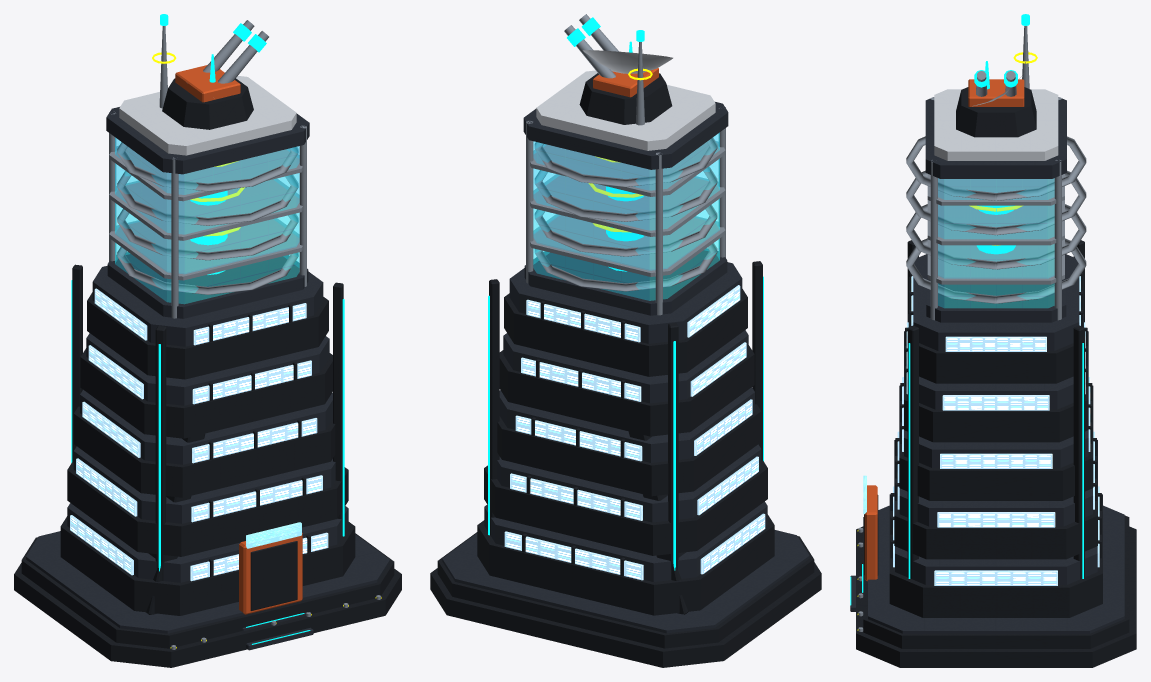
Rendered from bldg_20_r1_01.glb.
3 views of the same model, side by side, from view 1: azimuth 30°, elevation 25°; view 2: azimuth 150°, elevation 25°; view 3: azimuth 270°, elevation 25° (orthographic).
Parts seen in each view (by area): view 1: Bldg20_C01_gunmetal, Bldg20_C01_carbon_slate, Bldg20_C01_steel_machined, Bldg20_C01_glass_cyan, Bldg20_C01_window_lit, Bldg20_C01_aero_white, Bldg20_C01_led_cyan, Bldg20_C01_accent_orange, Bldg20_C01_marquee; view 2: Bldg20_C01_gunmetal, Bldg20_C01_carbon_slate, Bldg20_C01_steel_machined, Bldg20_C01_glass_cyan, Bldg20_C01_window_lit, Bldg20_C01_aero_white, Bldg20_C01_led_cyan, Bldg20_C01_accent_orange; view 3: Bldg20_C01_gunmetal, Bldg20_C01_carbon_slate, Bldg20_C01_steel_machined, Bldg20_C01_glass_cyan, Bldg20_C01_window_lit, Bldg20_C01_aero_white, Bldg20_C01_accent_orange, Bldg20_C01_led_cyan.
Part boxes in pixels (left/top/right/bottom): Bldg20_C01_gunmetal: left=14, top=78, right=401, bottom=667; Bldg20_C01_carbon_slate: left=26, top=107, right=389, bottom=650; Bldg20_C01_steel_machined: left=109, top=20, right=380, bottom=649; Bldg20_C01_glass_cyan: left=115, top=137, right=299, bottom=303; Bldg20_C01_window_lit: left=70, top=288, right=328, bottom=581; Bldg20_C01_aero_white: left=119, top=76, right=296, bottom=155; Bldg20_C01_led_cyan: left=71, top=14, right=344, bottom=644; Bldg20_C01_accent_orange: left=175, top=65, right=302, bottom=614; Bldg20_C01_marquee: left=246, top=522, right=301, bottom=548; Bldg20_C01_gunmetal: left=430, top=73, right=821, bottom=667; Bldg20_C01_carbon_slate: left=442, top=102, right=809, bottom=633; Bldg20_C01_steel_machined: left=526, top=14, right=725, bottom=315; Bldg20_C01_glass_cyan: left=533, top=132, right=719, bottom=300; Bldg20_C01_window_lit: left=504, top=285, right=765, bottom=580; Bldg20_C01_aero_white: left=536, top=50, right=715, bottom=150; Bldg20_C01_led_cyan: left=488, top=17, right=763, bottom=570; Bldg20_C01_accent_orange: left=593, top=68, right=658, bottom=97; Bldg20_C01_gunmetal: left=856, top=87, right=1136, bottom=667; Bldg20_C01_carbon_slate: left=850, top=97, right=1124, bottom=633; Bldg20_C01_steel_machined: left=858, top=26, right=1086, bottom=631; Bldg20_C01_glass_cyan: left=938, top=178, right=1054, bottom=307; Bldg20_C01_window_lit: left=893, top=276, right=1099, bottom=585; Bldg20_C01_aero_white: left=934, top=73, right=1058, bottom=160; Bldg20_C01_accent_orange: left=864, top=79, right=1024, bottom=581; Bldg20_C01_led_cyan: left=850, top=14, right=1083, bottom=605.
Size of the model in its own units: 12.5 by 23.42 by 10.71.
10 materials, 10 textured.
